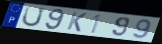1: (91, 14, 102, 34)
9: (44, 8, 66, 31), (132, 19, 153, 40), (111, 16, 131, 37)
K: (66, 11, 89, 33)
U: (21, 5, 46, 28)
